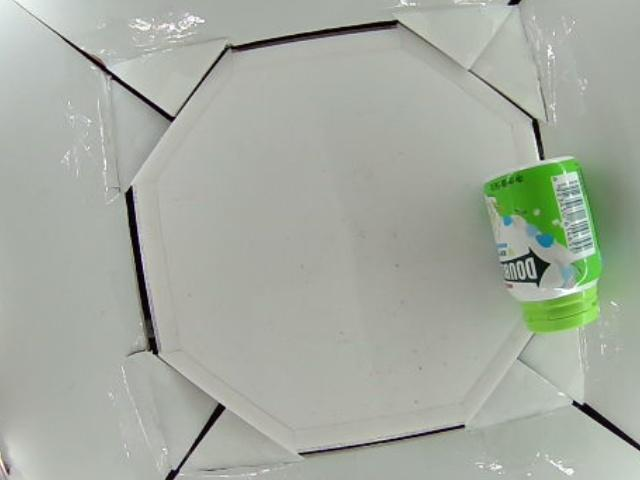Bottle: (481, 155, 605, 341)
